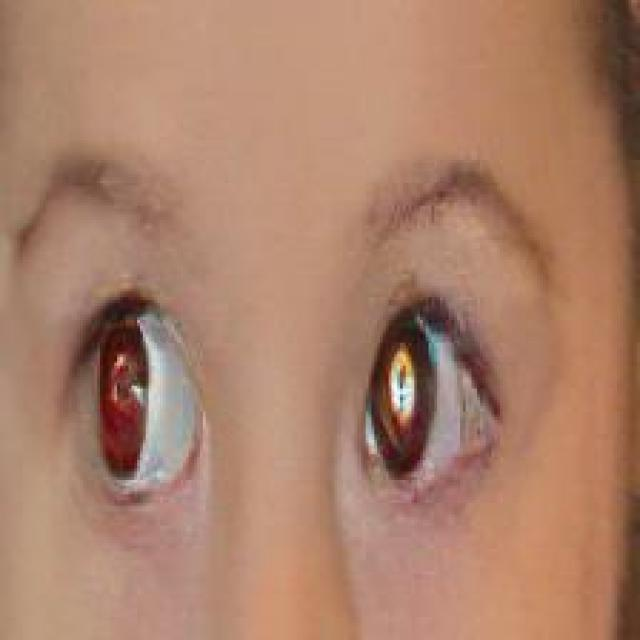reflexo-alterado: (343, 274, 497, 508)
reflexo-normal: (36, 285, 218, 492)
